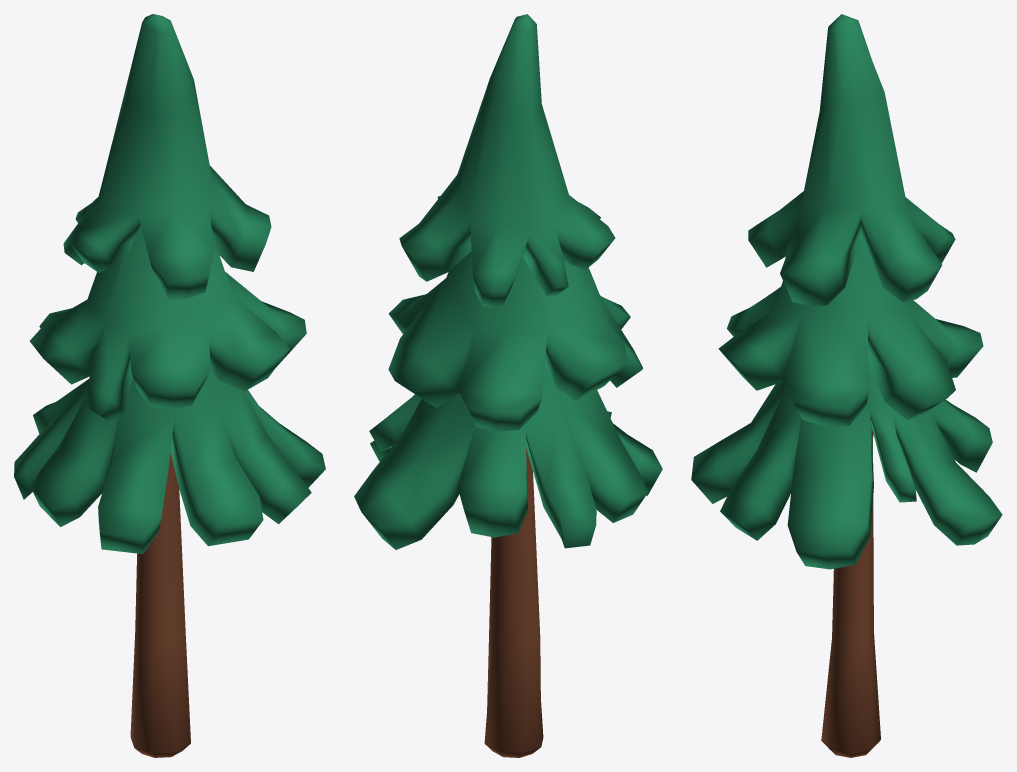
The model's file is Pine_04_LOD2.gltf.
3 renders of one model, left to right at view 1: azimuth 30°, elevation 25°; view 2: azimuth 150°, elevation 25°; view 3: azimuth 270°, elevation 25°, orthographic.
Visible parts, largest first — view 1: Pine_04_LOD2_Cylinder.787; view 2: Pine_04_LOD2_Cylinder.787; view 3: Pine_04_LOD2_Cylinder.787.
Part boxes in pixels (bbox=[...]): Pine_04_LOD2_Cylinder.787: bbox=[14, 14, 325, 757]; Pine_04_LOD2_Cylinder.787: bbox=[354, 14, 662, 757]; Pine_04_LOD2_Cylinder.787: bbox=[691, 14, 1002, 757].
Bounding box in the file's own units: 6.39 × 16.76 × 6.47.
1 material, 1 textured.
